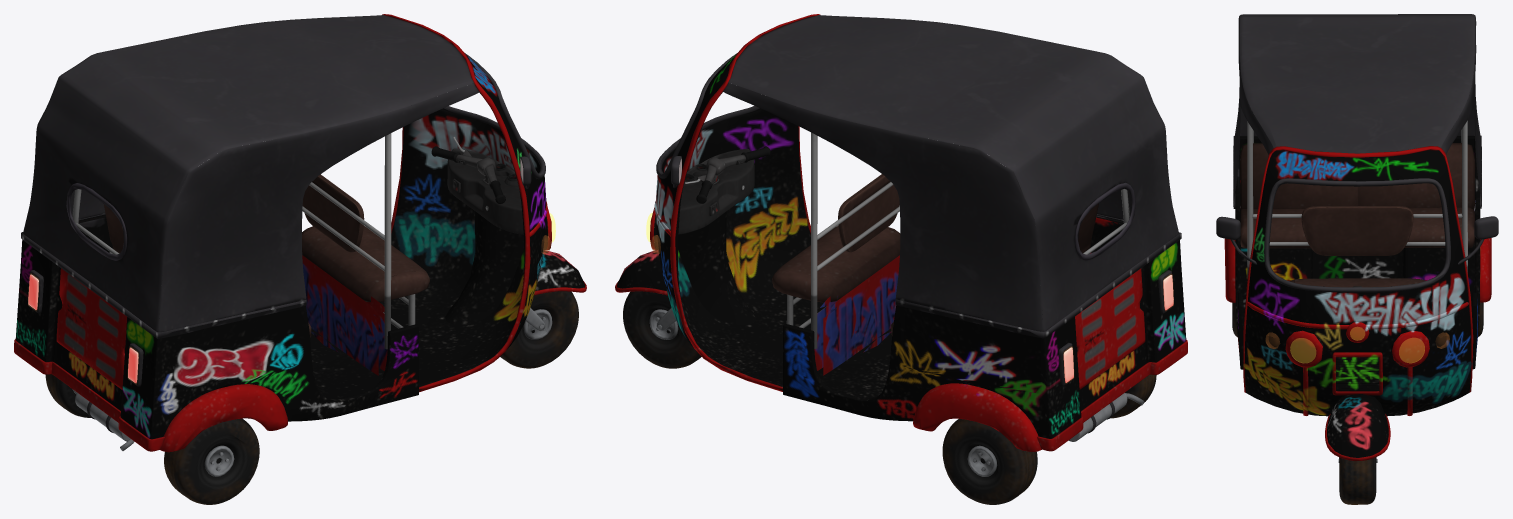
Rendered from street_tuk_tuk.glb.
3 renders of one model, left to right at view 1: azimuth 30°, elevation 25°; view 2: azimuth 150°, elevation 25°; view 3: azimuth 270°, elevation 25°, orthographic. The views are drawn at different scales.
Parts seen in each view (by area): view 1: Object_109, Object_19, Object_61, Object_154, Object_111, Object_17, Object_75, Object_107, Object_95, Object_6, Object_29, Object_37 (+11 smaller); view 2: Object_109, Object_19, Object_61, Object_154, Object_111, Object_75, Object_17, Object_95, Object_107, Object_6, Object_29, Object_37 (+12 smaller); view 3: Object_109, Object_61, Object_23, Object_25, Object_77, Object_73, Object_33, Object_27, Object_19, Object_63, Object_37, Object_6 (+14 smaller).
Part boxes in pixels (box(x1,y1,x2,y2)): Object_109: box(23, 15, 479, 338); Object_19: box(15, 214, 418, 439); Object_61: box(310, 55, 546, 398); Object_154: box(45, 374, 259, 504); Object_111: box(302, 255, 387, 375); Object_17: box(56, 268, 126, 389); Object_75: box(302, 226, 429, 301); Object_107: box(445, 211, 524, 324); Object_95: box(160, 384, 287, 452); Object_6: box(500, 291, 578, 368); Object_29: box(447, 148, 523, 234); Object_37: box(382, 14, 530, 392); Object_109: box(723, 15, 1179, 337); Object_19: box(783, 215, 1186, 438); Object_61: box(655, 54, 891, 398); Object_154: box(942, 374, 1156, 504); Object_111: box(814, 255, 899, 375); Object_75: box(772, 226, 900, 302); Object_17: box(1075, 268, 1145, 389); Object_95: box(913, 383, 1041, 451); Object_107: box(678, 211, 756, 324); Object_6: box(623, 291, 701, 368); Object_29: box(678, 149, 754, 234); Object_37: box(670, 14, 820, 391); Object_109: box(1233, 14, 1481, 206); Object_61: box(1243, 150, 1470, 416); Object_23: box(1240, 143, 1474, 209); Object_25: box(1240, 183, 1476, 316); Object_77: box(1301, 206, 1413, 255); Object_73: box(1327, 394, 1388, 457); Object_33: box(1264, 178, 1450, 292); Object_27: box(1240, 207, 1474, 248); Object_19: box(1235, 136, 1480, 369); Object_63: box(1285, 330, 1429, 367); Object_37: box(1243, 146, 1473, 392); Object_6: box(1339, 457, 1376, 504).
Size of what is drawn, in the model's own units: 3.03 by 2.05 by 1.64.
6 materials, 3 textured.
